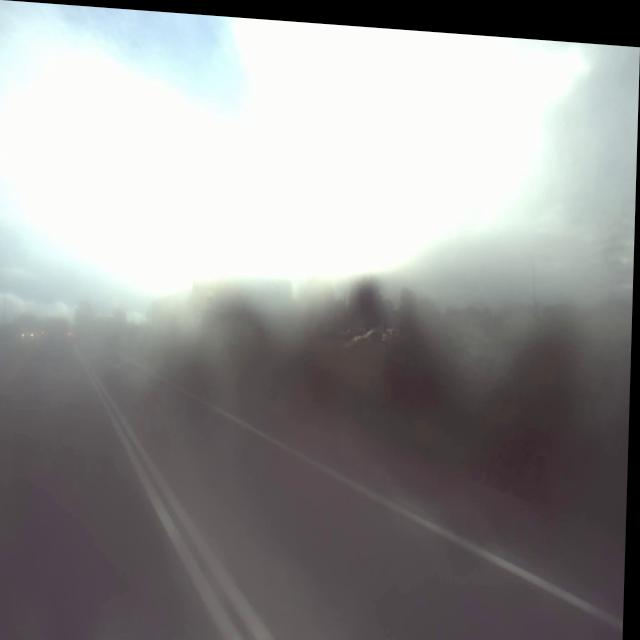car: (38, 309, 80, 366)
